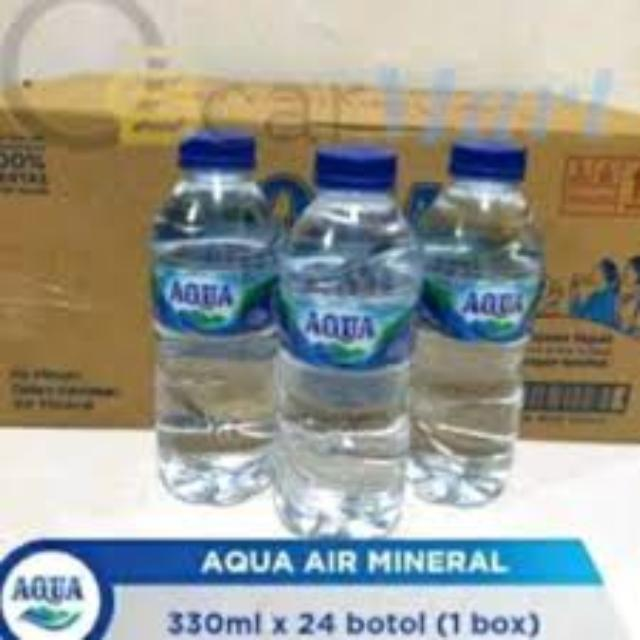trash: (273, 138, 421, 544), (406, 136, 544, 508), (148, 131, 282, 511)
